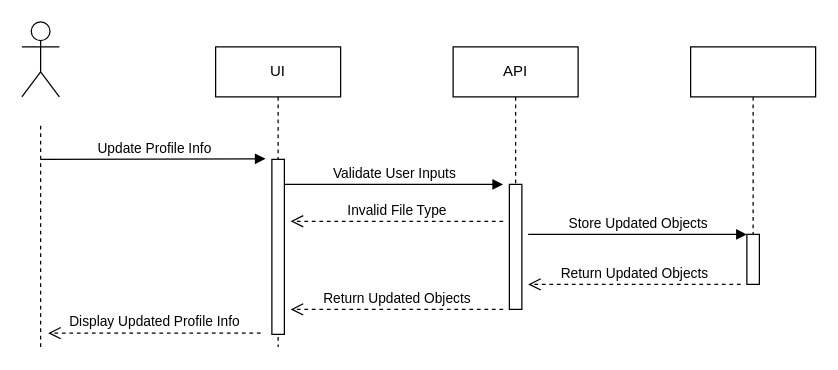
The diagram is 838 pixels wide and 370 high, and some of its shapes have lost their labels. The shapes that lost their labels are listed below. From the top down, each one's box as (x1, y1, x2, y2) in pixels, then its label:
(21, 21, 59, 97): User
(689, 46, 816, 284): Database
